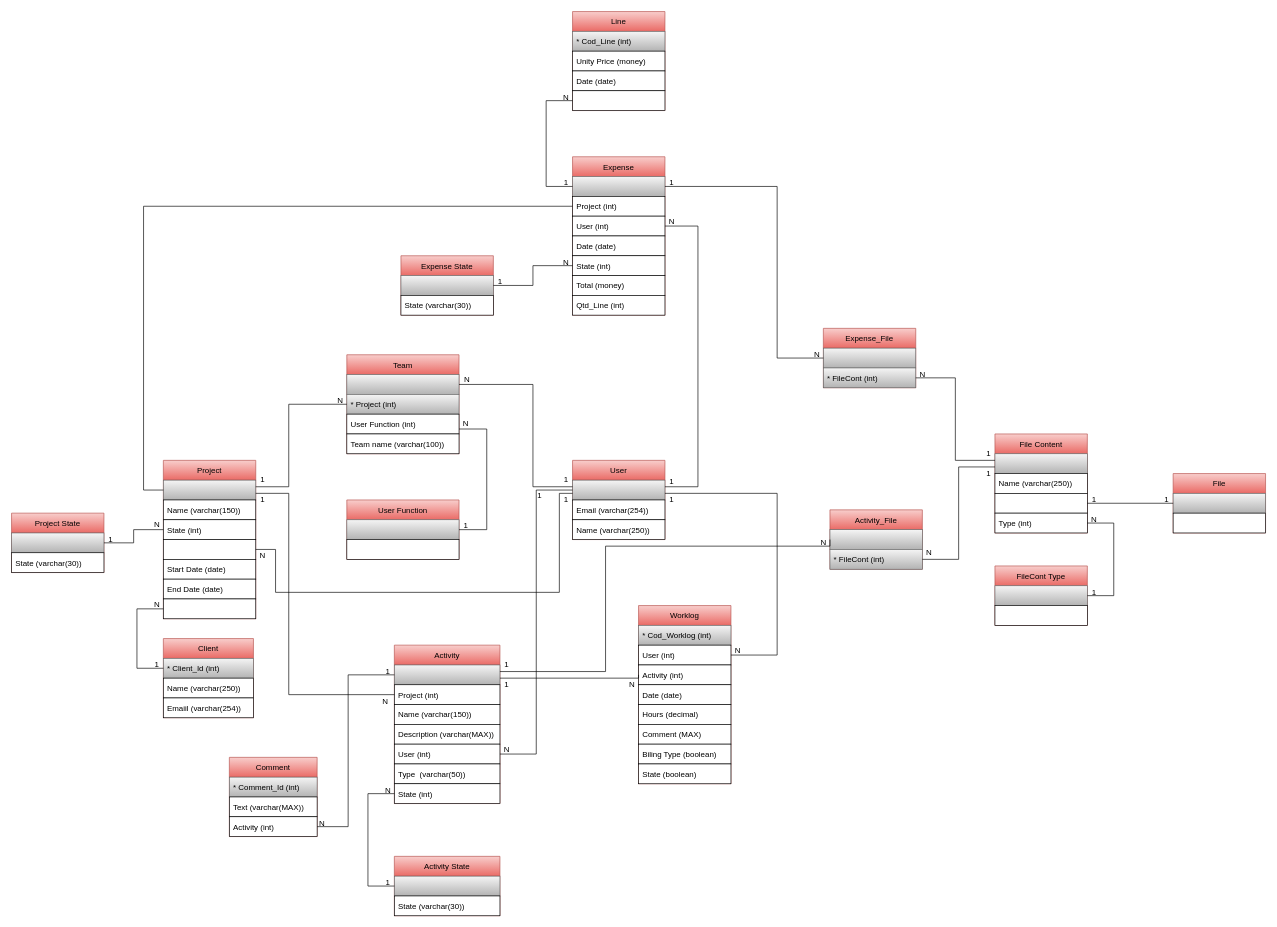
Image size: 1277x927. Some labels were removed from this diagram. The centre of each missing label's shape, as x and y in pixels:
* Activity (int): point 875,539
* Activity_Id (int): point 447,674
* ActivityState_Id (int): point 447,885
* Expense (int): point 869,357
* Expense_Id (int): point 618,186
* ExpenseState_Id (int): point 446,285
* File_Id (int): point 1219,503
* FileContent_Id (int): point 1040,463
* FileContType_Id (int): point 1040,595
* Project_Id (int): point 209,489
* ProjState_Id (int): point 57,542
* User (int): point 402,384
* User_Id (int): point 618,489
* UserFun_Id (int): point 402,529
base64 (binary): point 1219,522
Client (int): point 209,608
Expense (int): point 618,100
File (int): point 1040,503
Function (varchar(30)): point 402,549
Manager (int): point 209,549
Type (varchar(30)): point 1040,615
